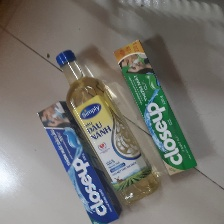CloseUp Tuyet: (37, 101, 122, 224)
CloseUp Xanh: (113, 40, 198, 176)
Simply: (56, 50, 159, 206)
